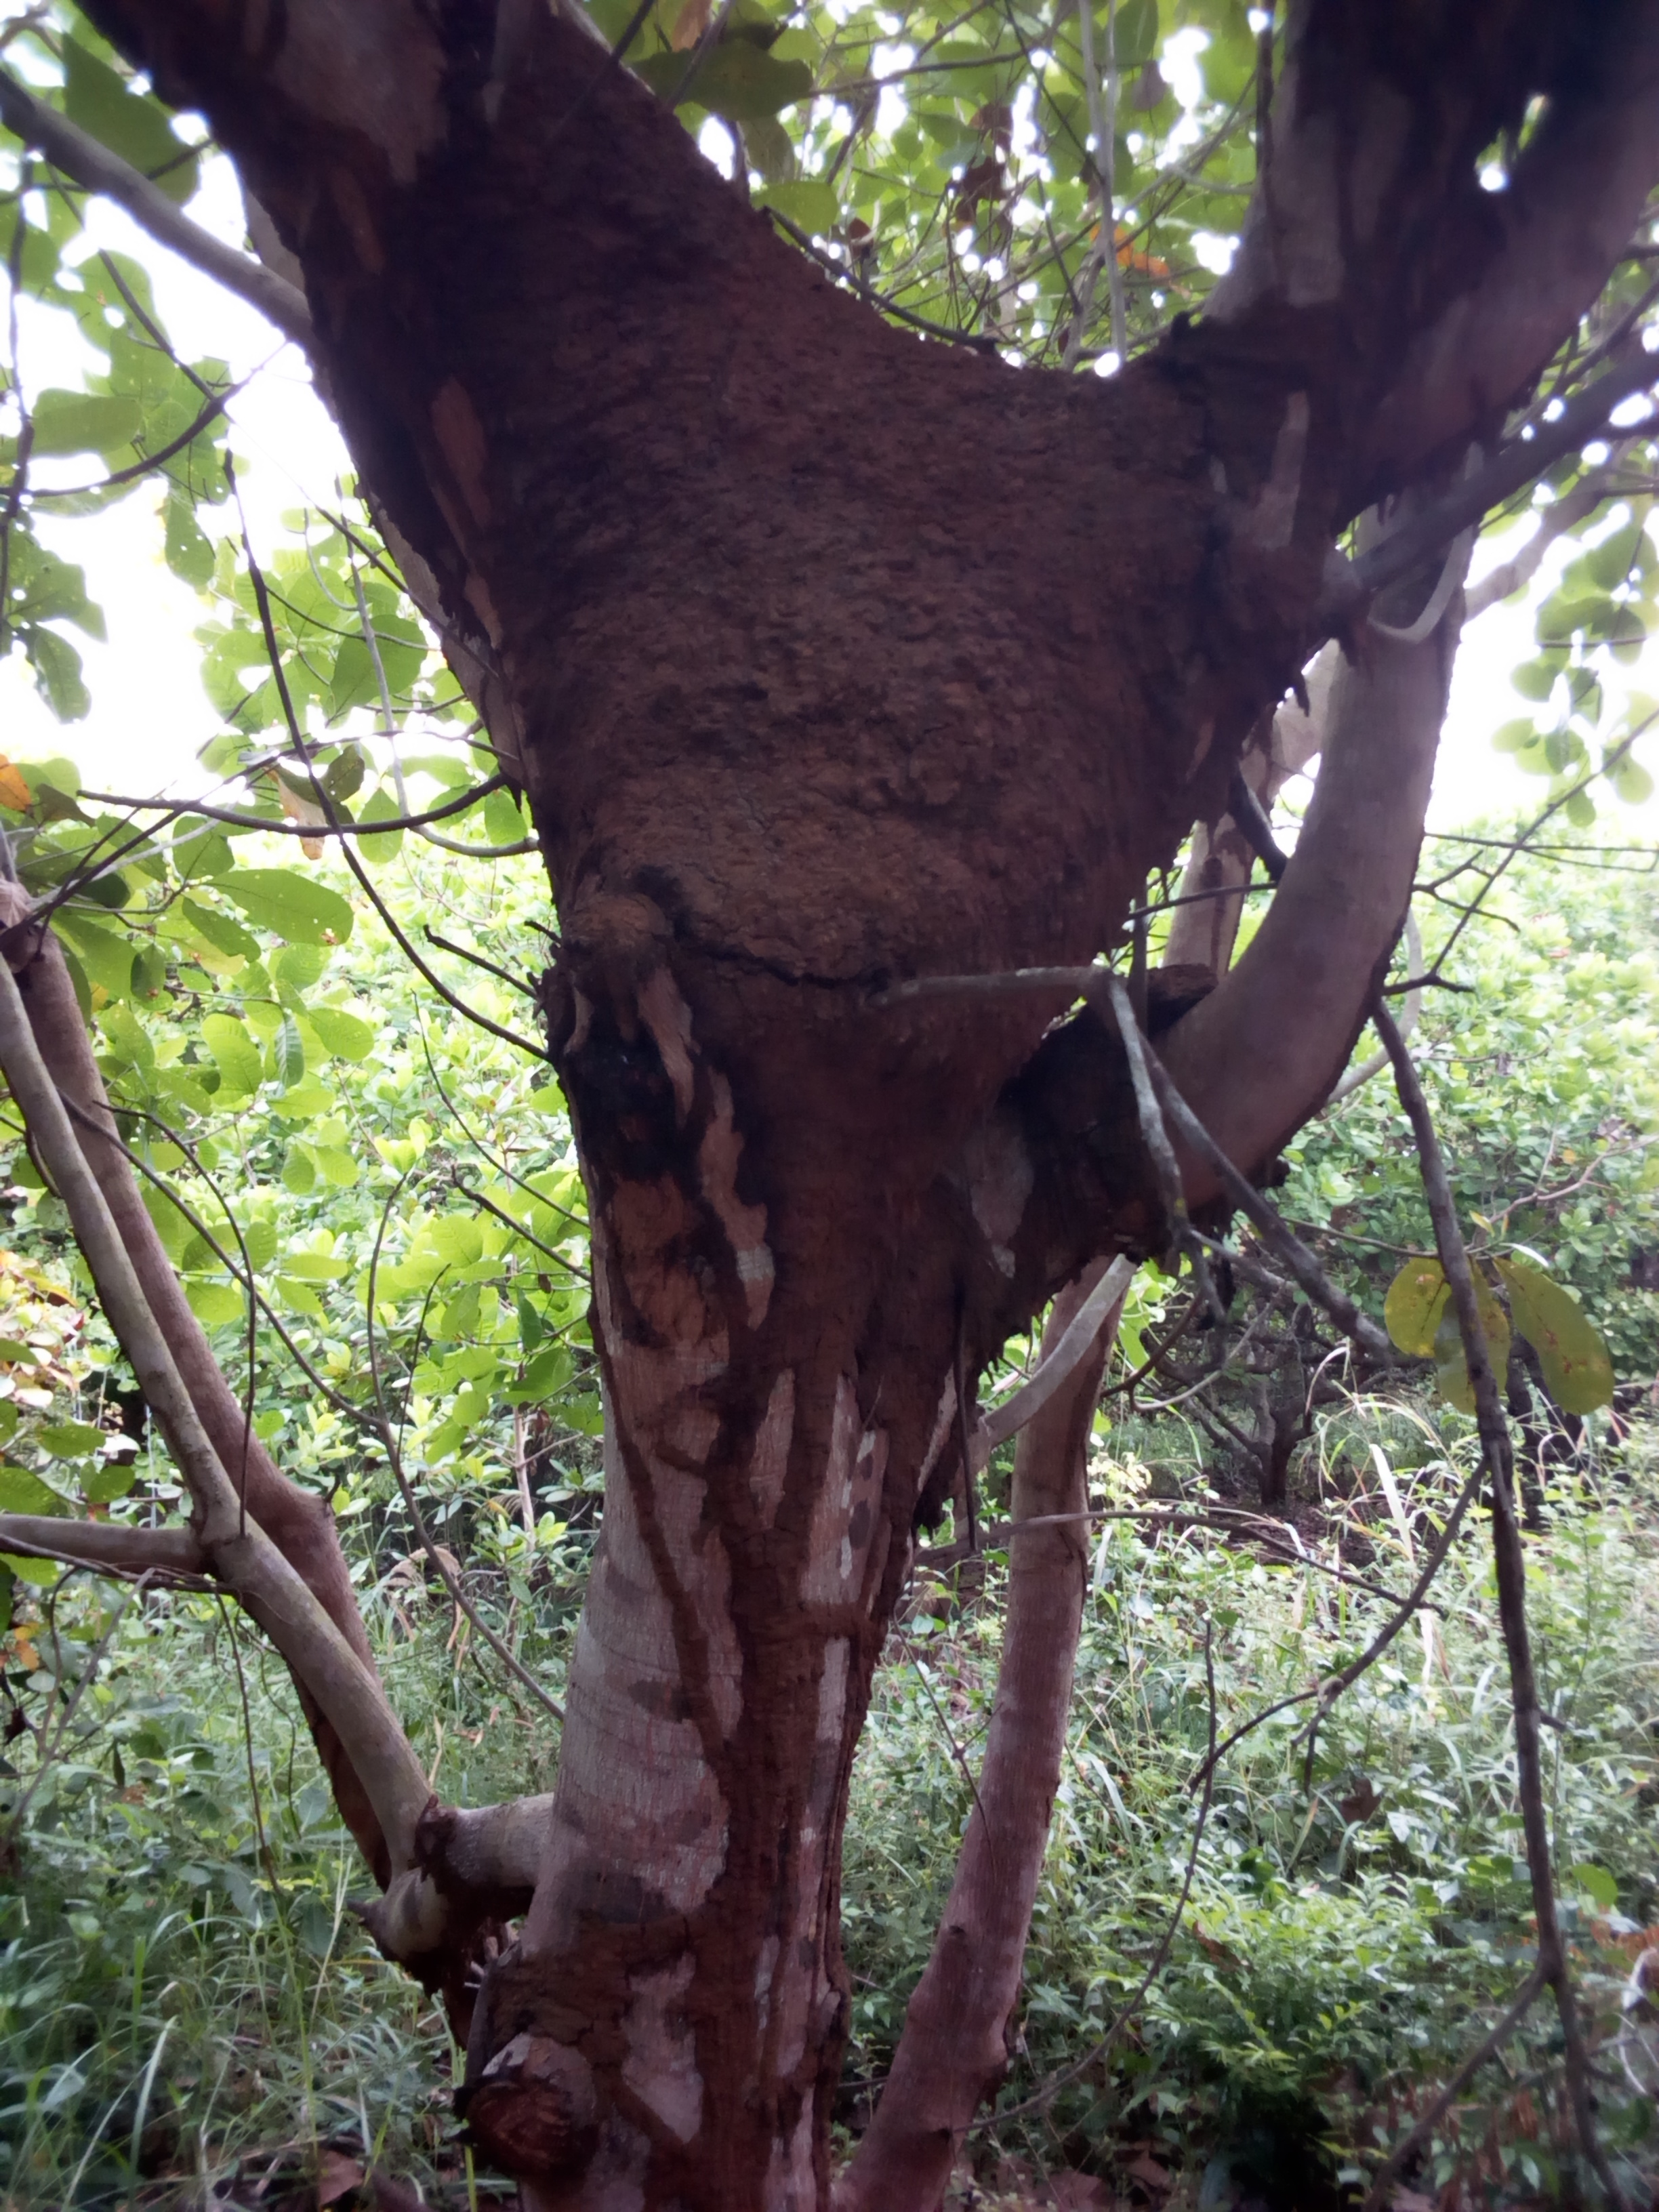Termites: (532, 228, 1246, 1264), (660, 1507, 809, 2210)
